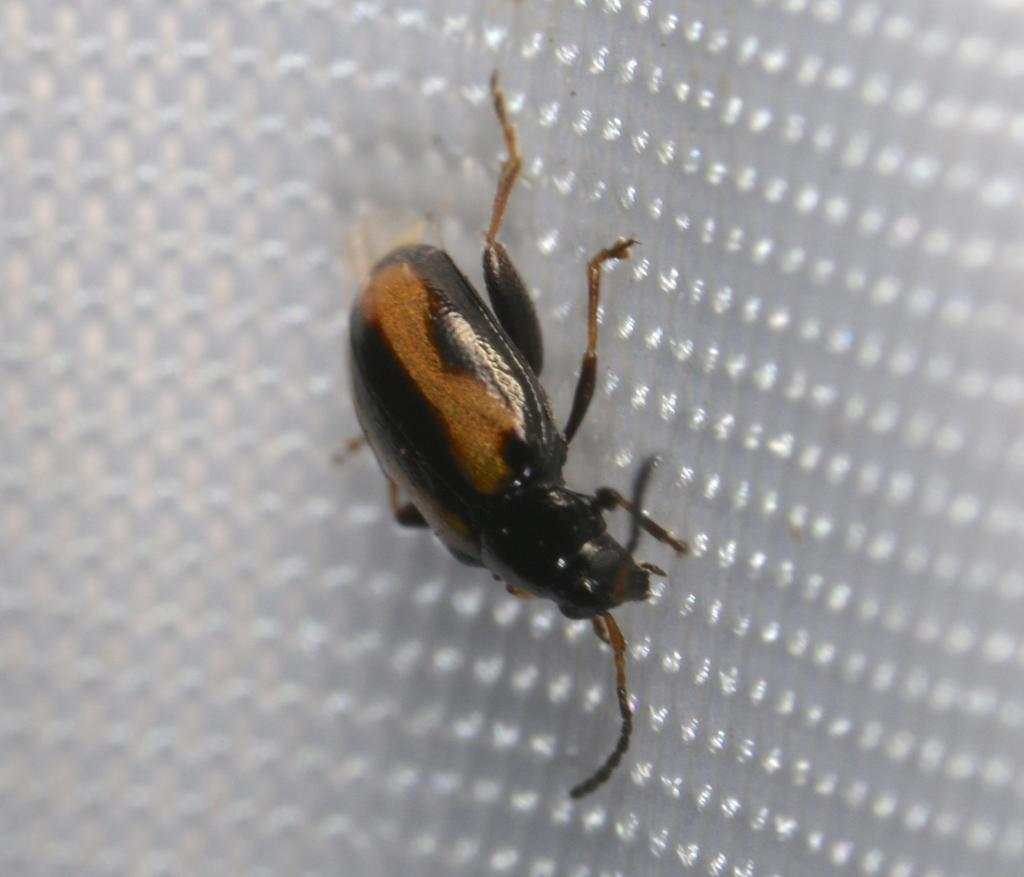flea_beetle: (210, 26, 842, 868)
